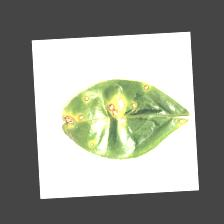canker: (59, 80, 194, 157)
